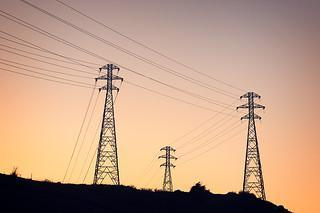power_tower: (88, 60, 123, 187), (236, 90, 268, 203), (159, 144, 183, 192)
